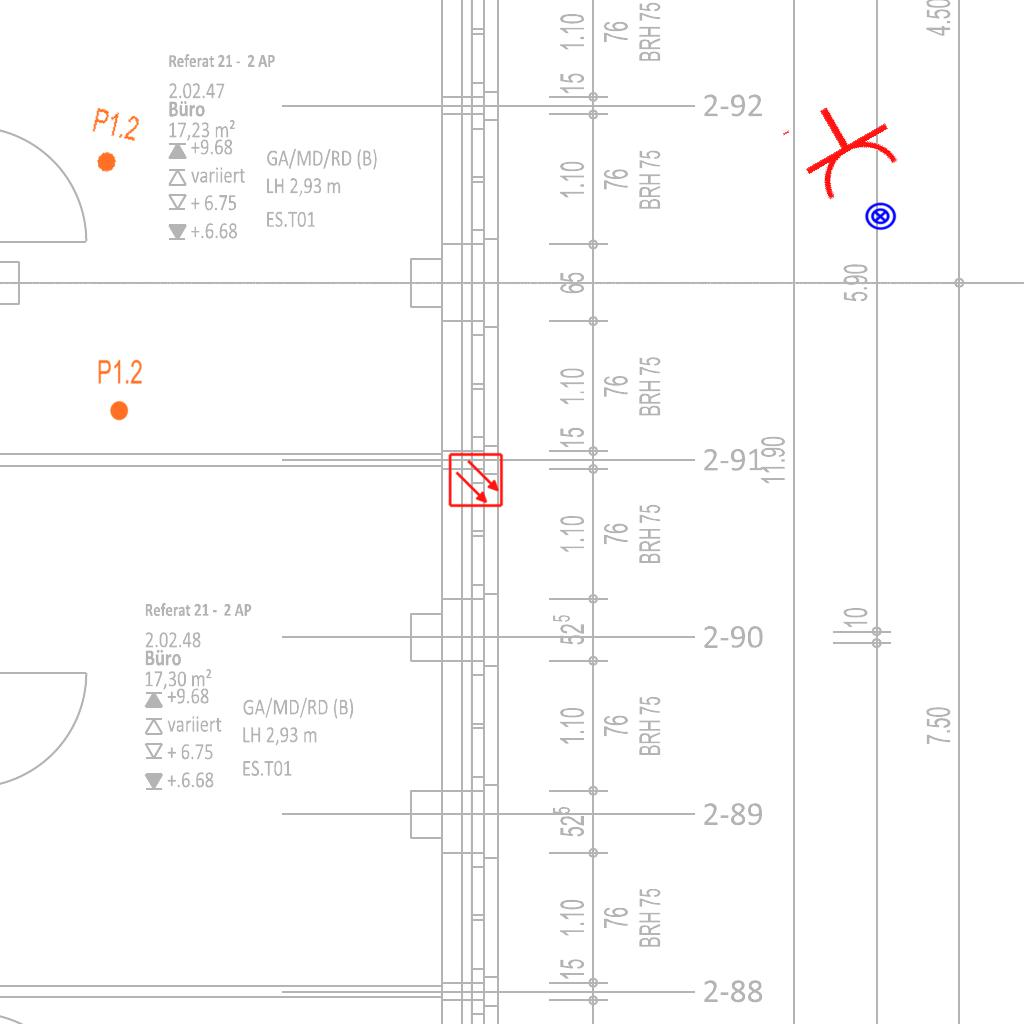Downlight_LED_Einbauleuchten_Flur: (82, 105, 142, 179), (97, 358, 143, 422)
RMO_Rauchmelder_optischer: (448, 452, 504, 508)
Schukosteckdose_einfach: (777, 83, 908, 209)
Taster_beleuchtet: (864, 200, 897, 233)
